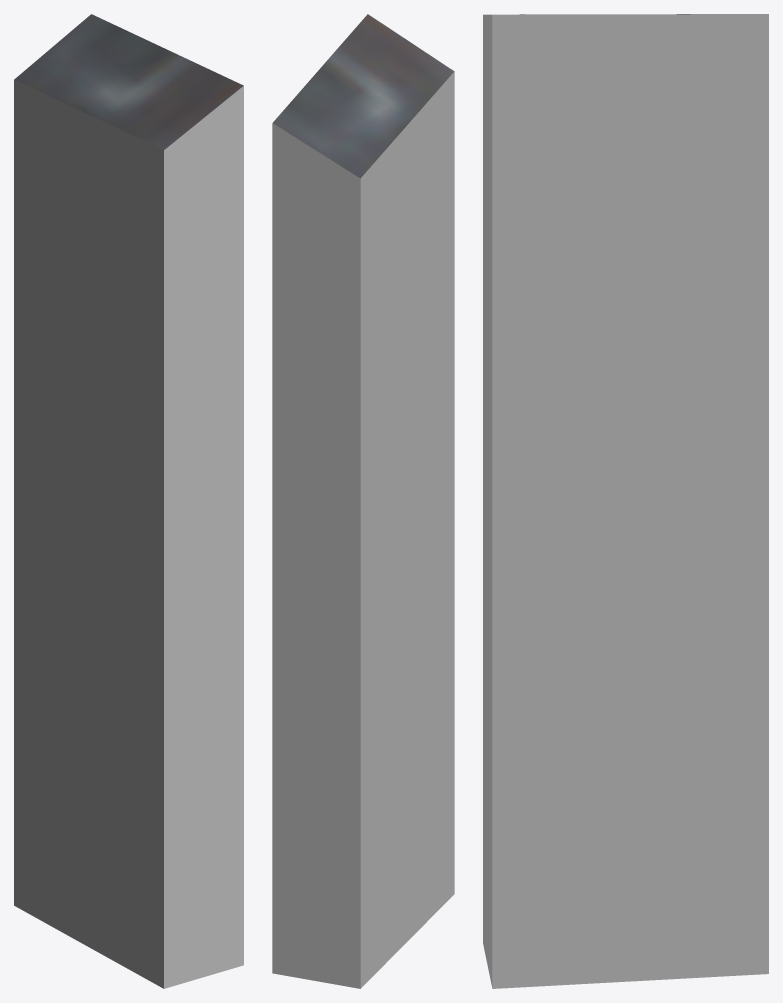
The model's file is DEBW_0010007THW9.gltf.
The picture shows the model from 3 angles, left to right: view 1: azimuth 30°, elevation 25°; view 2: azimuth 150°, elevation 25°; view 3: azimuth 270°, elevation 25°; orthographic projection. The views are drawn at different scales.
Parts seen in each view (by area): view 1: Z_UP; view 2: Z_UP; view 3: Z_UP.
Boxes of the visible parts, <box> form: Z_UP: <box>14,14,243,988</box>; Z_UP: <box>272,14,454,988</box>; Z_UP: <box>483,14,768,988</box>.
Bounding box in the file's own units: 1.97 × 14.89 × 3.96.
Materials: 2 (1 with a texture image).
